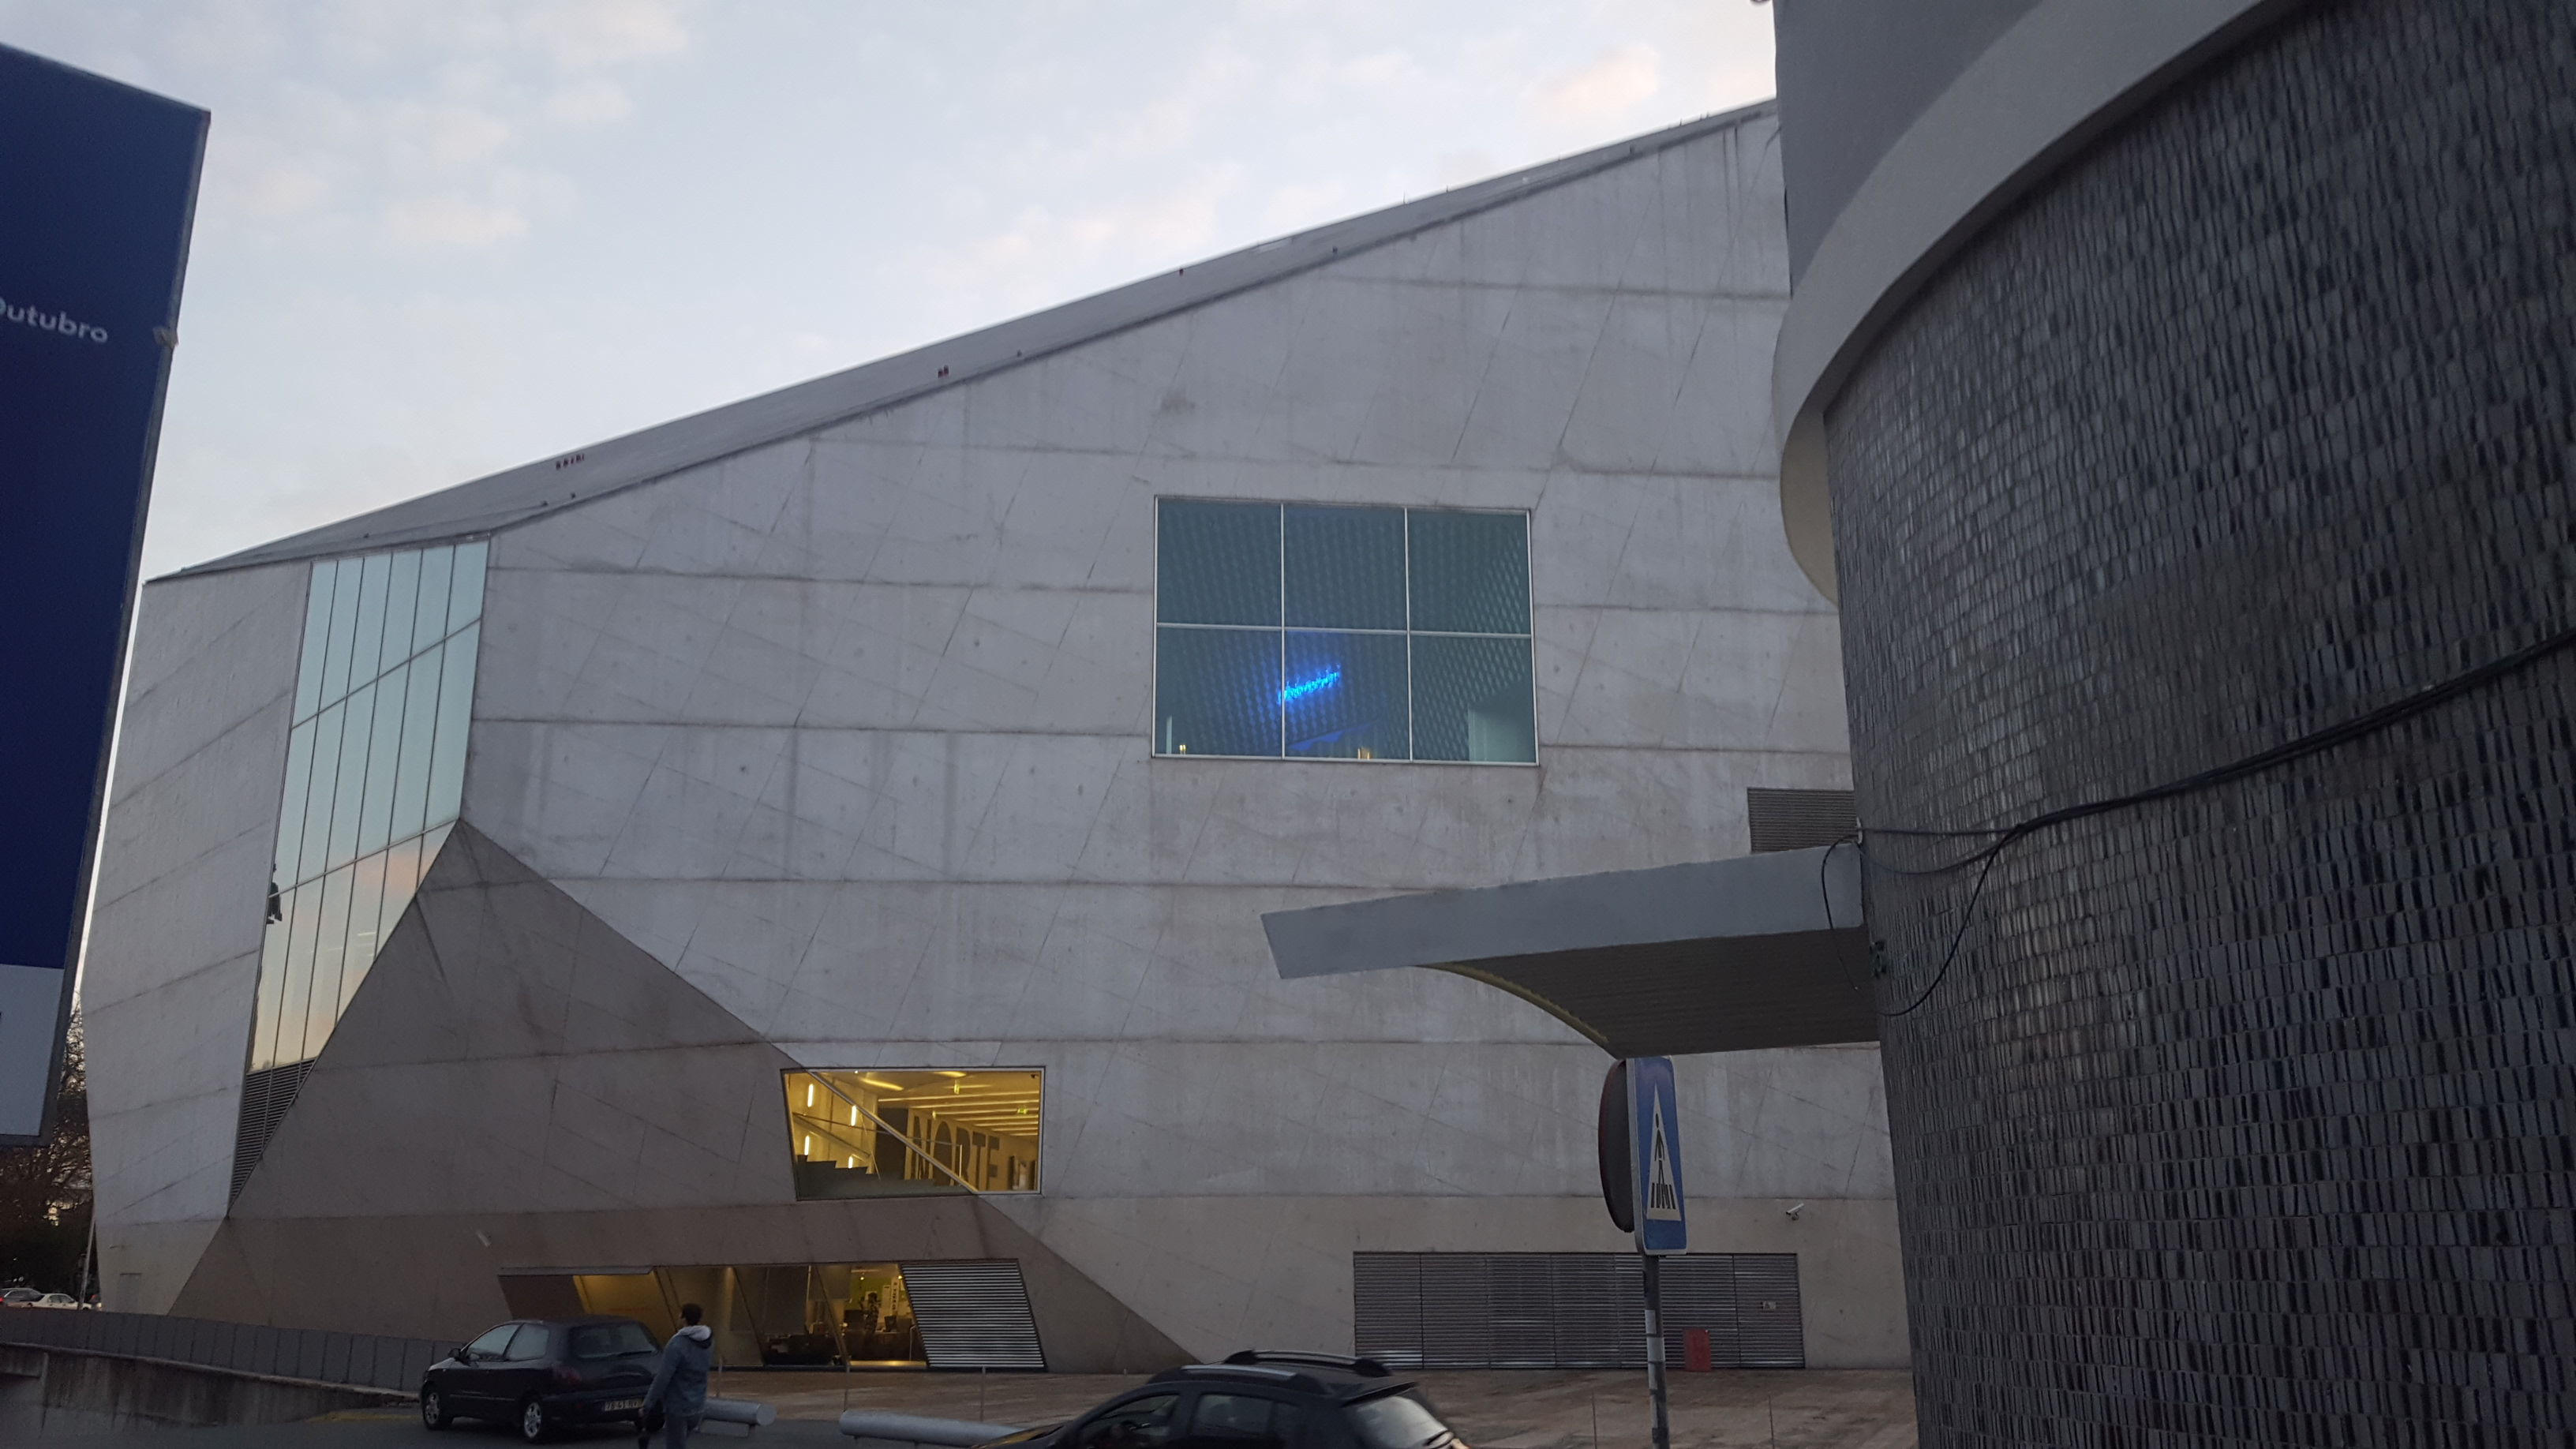musica: (83, 80, 1819, 1258)
